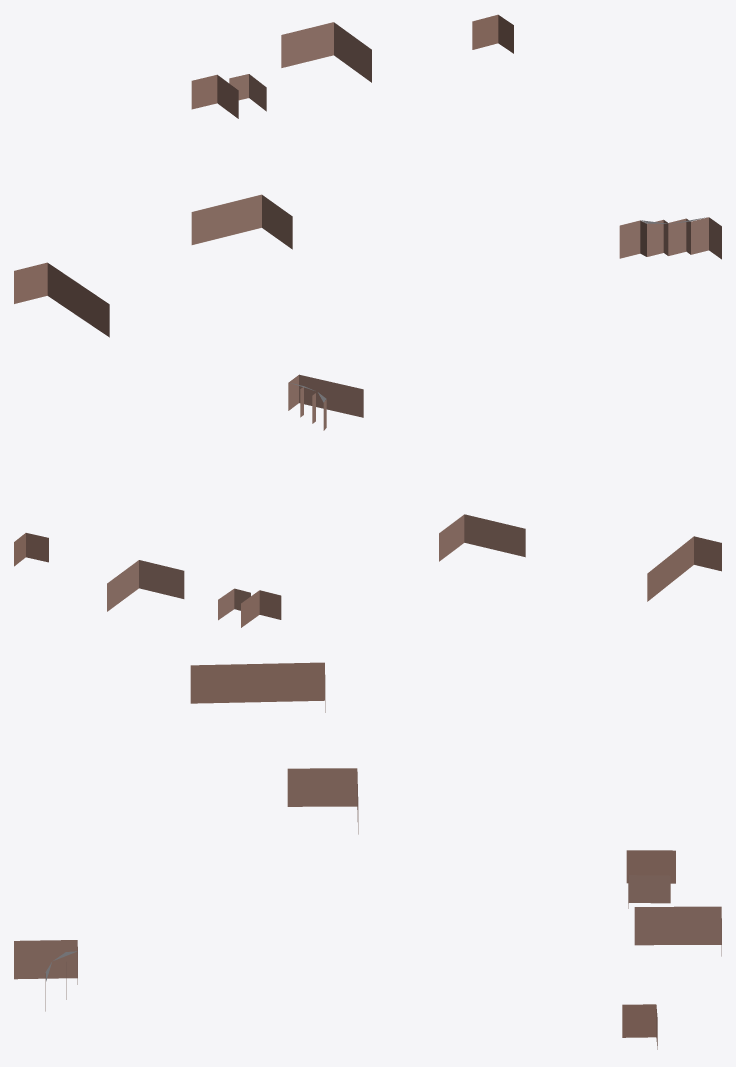
Rendered from c_1631_17830_buildings_residential.glb.
3 renders of one model, top to bottom at view 1: azimuth 30°, elevation 25°; view 2: azimuth 150°, elevation 25°; view 3: azimuth 270°, elevation 25°, orthographic. The views are drawn at different scales.
Visible parts, largest first — view 1: geometry_0; view 2: geometry_0; view 3: geometry_0.
Boxes of the visible parts, box(x1,y1,x2,y2) form: geometry_0: box(14, 14, 721, 337); geometry_0: box(14, 374, 721, 627); geometry_0: box(14, 662, 721, 1049).
Bounding box in the file's own units: 218 × 11.91 × 184.
